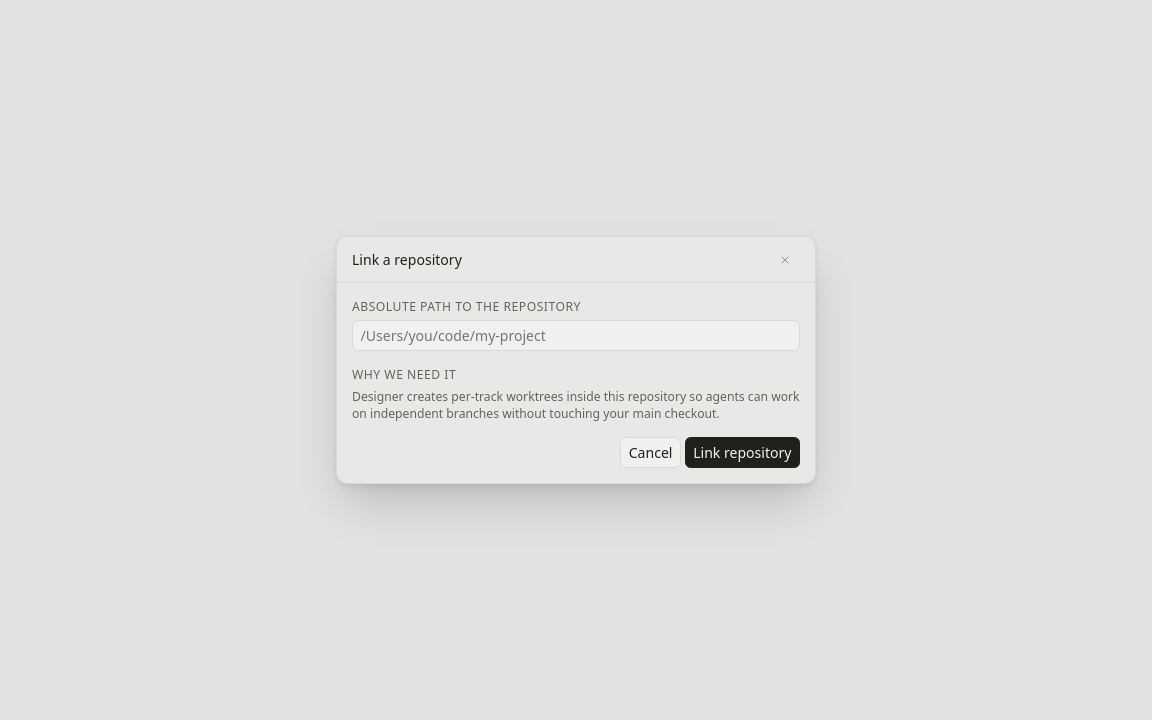
Test: RepoLinkModal › shows an error when the path is rejected
Type "relative/path" into the field labelled "Absolute path to the repository" at (576, 336), box [352, 320, 800, 351]
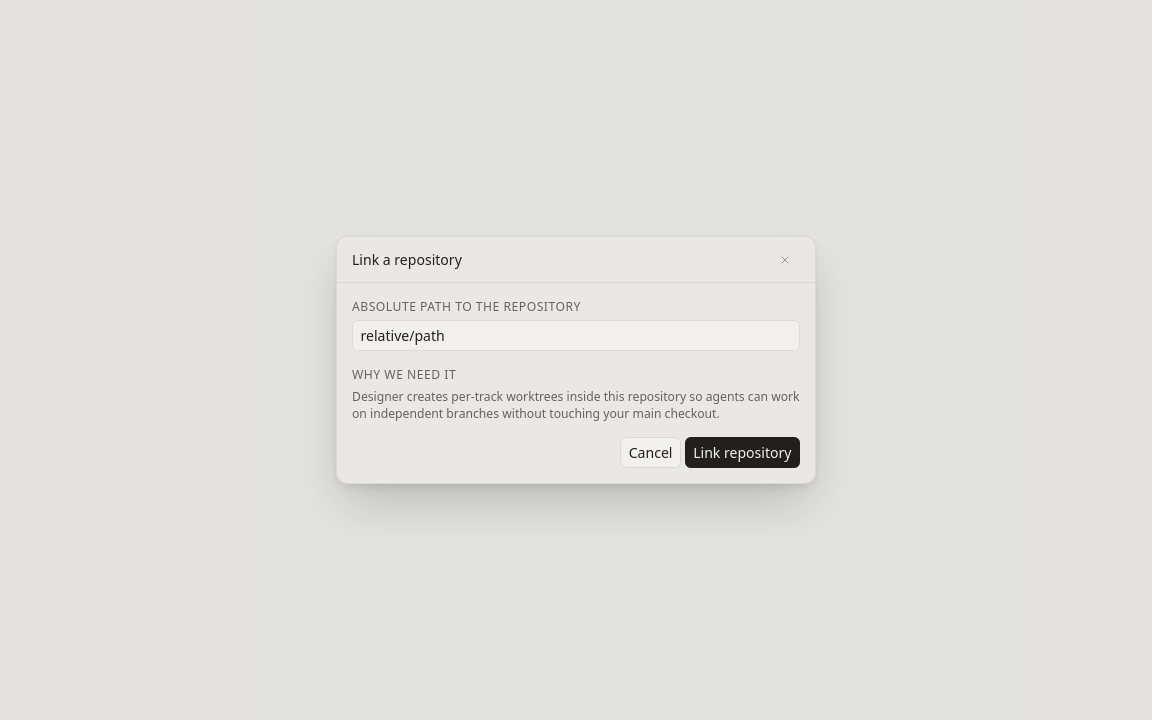
Click the button "Link repository" at (742, 452), box [685, 437, 800, 468]
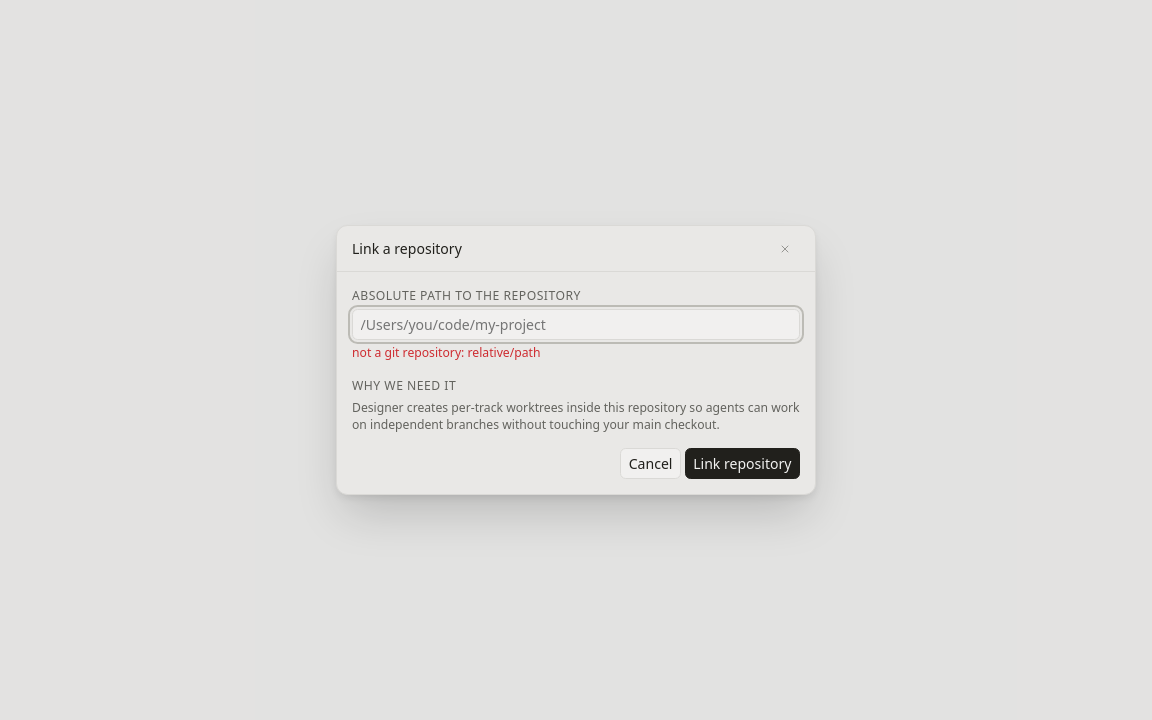
Now the message shows "not a git repository", box [352, 344, 540, 361]
